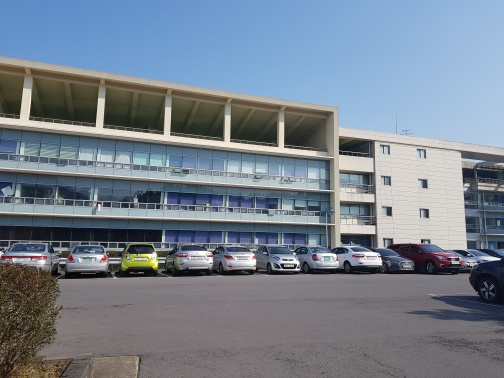Engineering College Building 4: (2, 55, 502, 242), (4, 59, 341, 242), (338, 127, 502, 240)
